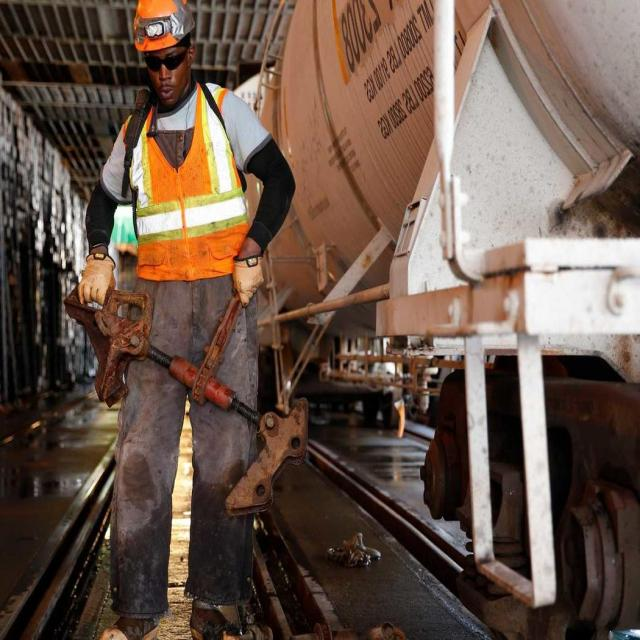Reflective-Jacket: (115, 80, 251, 288)
Safety-Helmet: (129, 0, 197, 55), (94, 624, 133, 640)
